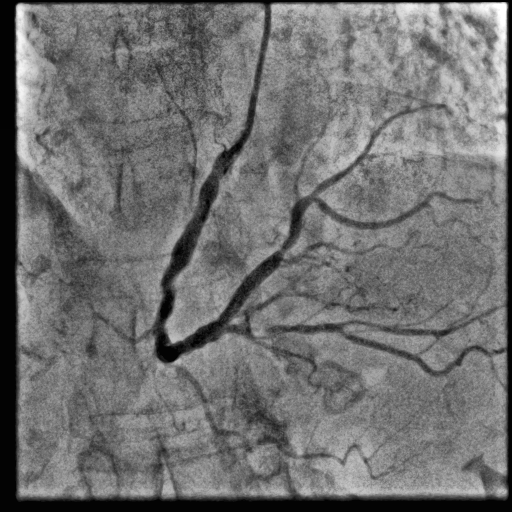pborca: (220, 104, 443, 323)
pda: (226, 322, 506, 388)
rca: (153, 150, 236, 363)
